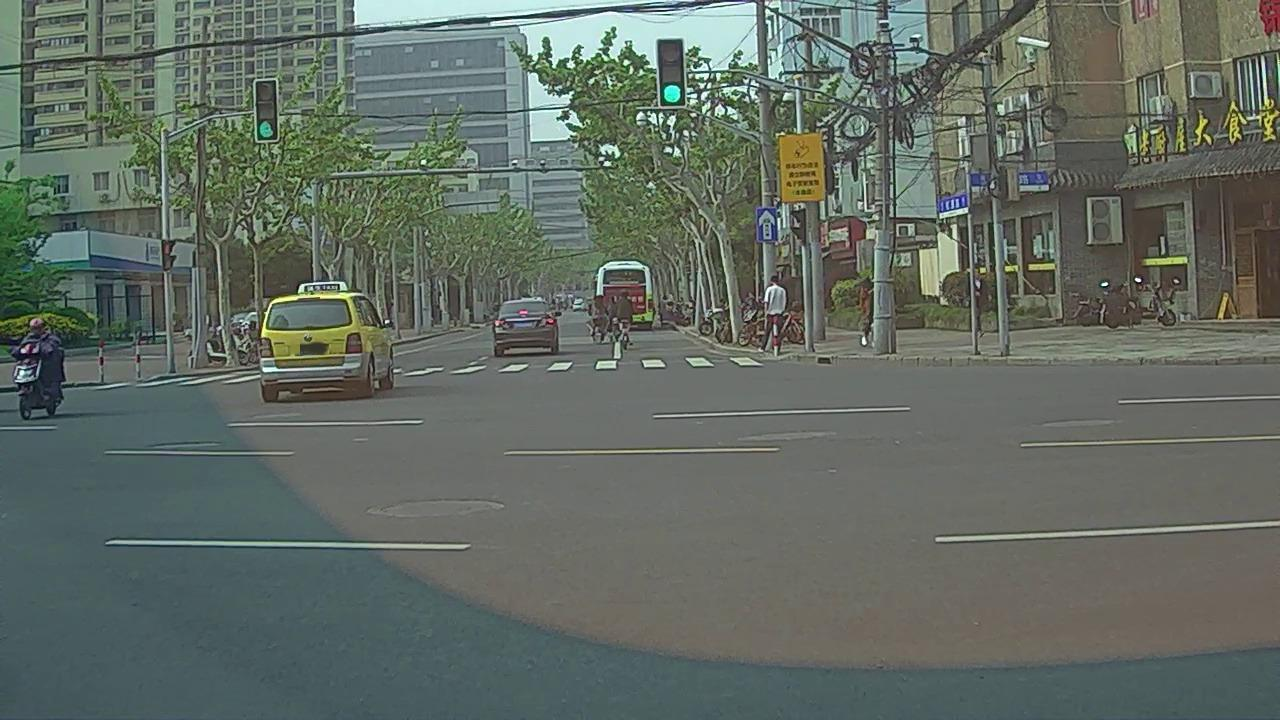traffic_light: (659, 46, 686, 106), (255, 80, 278, 141)
